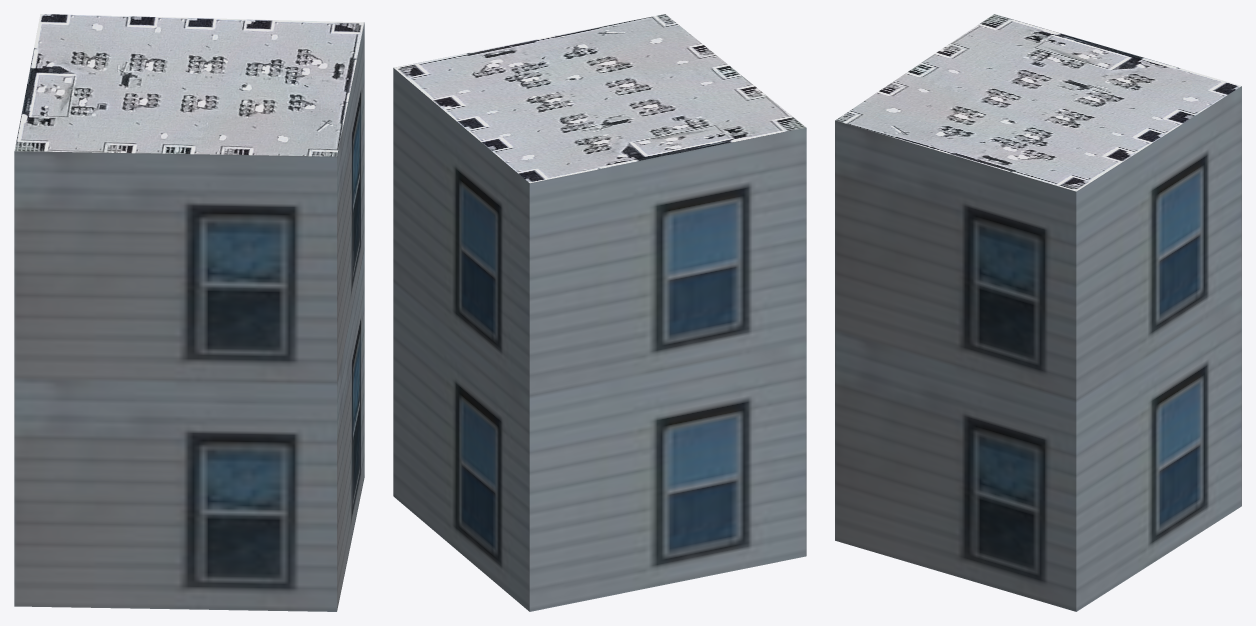
Rendered from ResTex__2042.fbx.
The picture shows the model from 3 angles, left to right: view 1: azimuth 30°, elevation 25°; view 2: azimuth 150°, elevation 25°; view 3: azimuth 270°, elevation 25°; orthographic projection. The views are drawn at different scales.
Visible parts, largest first — view 1: CityEngineMaterial_18_m, CityEngineMaterial_2_m; view 2: CityEngineMaterial_18_m, CityEngineMaterial_2_m; view 3: CityEngineMaterial_18_m, CityEngineMaterial_2_m.
Part boxes in pixels (left/top/right/bottom): CityEngineMaterial_18_m: left=14, top=23, right=364, bottom=611; CityEngineMaterial_2_m: left=14, top=14, right=364, bottom=156; CityEngineMaterial_18_m: left=393, top=68, right=806, bottom=611; CityEngineMaterial_2_m: left=394, top=14, right=805, bottom=183; CityEngineMaterial_18_m: left=835, top=86, right=1241, bottom=611; CityEngineMaterial_2_m: left=835, top=14, right=1241, bottom=191.
Bounding box in the file's own units: 5.44 × 6 × 5.26.
2 materials, 2 textured.
